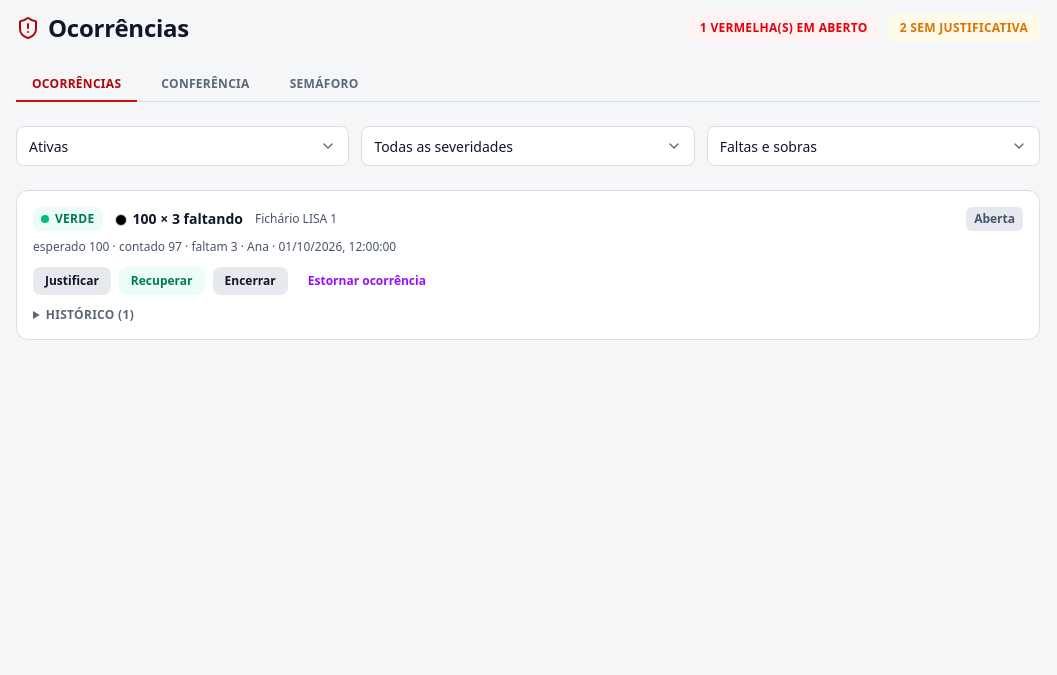
semáforo (admin) › erro de validação do servidor é exibido; faixa pode ser adicionada e removida
Click the tab "Semáforo" at x=324, y=85, box [274, 68, 375, 102]
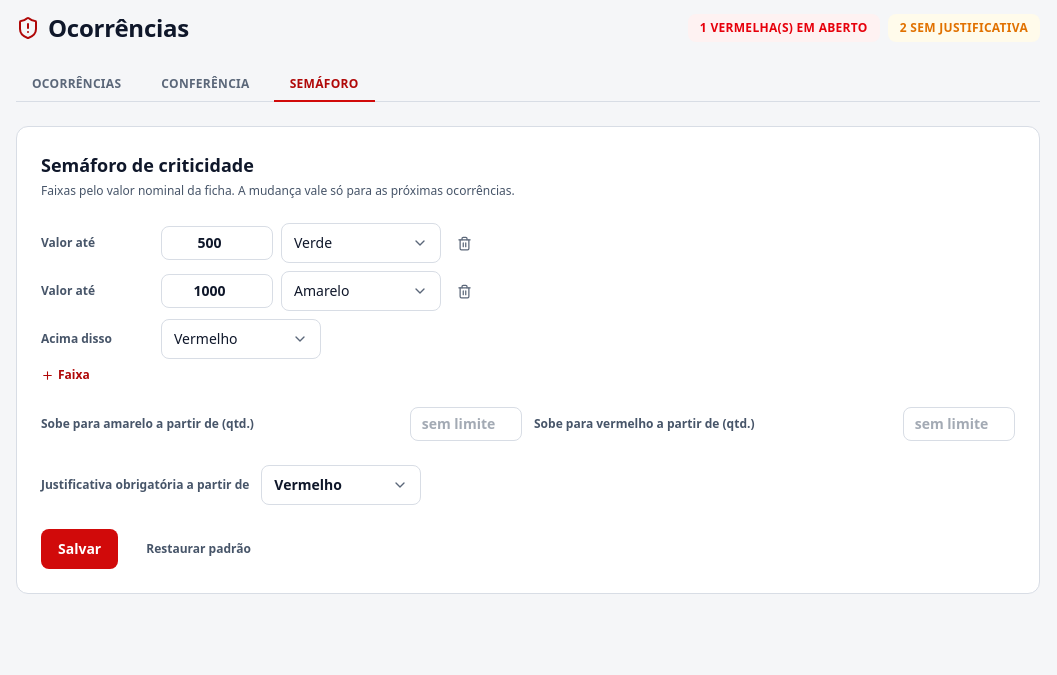
Click the button "Faixa" at x=65, y=375, box [41, 367, 90, 383]
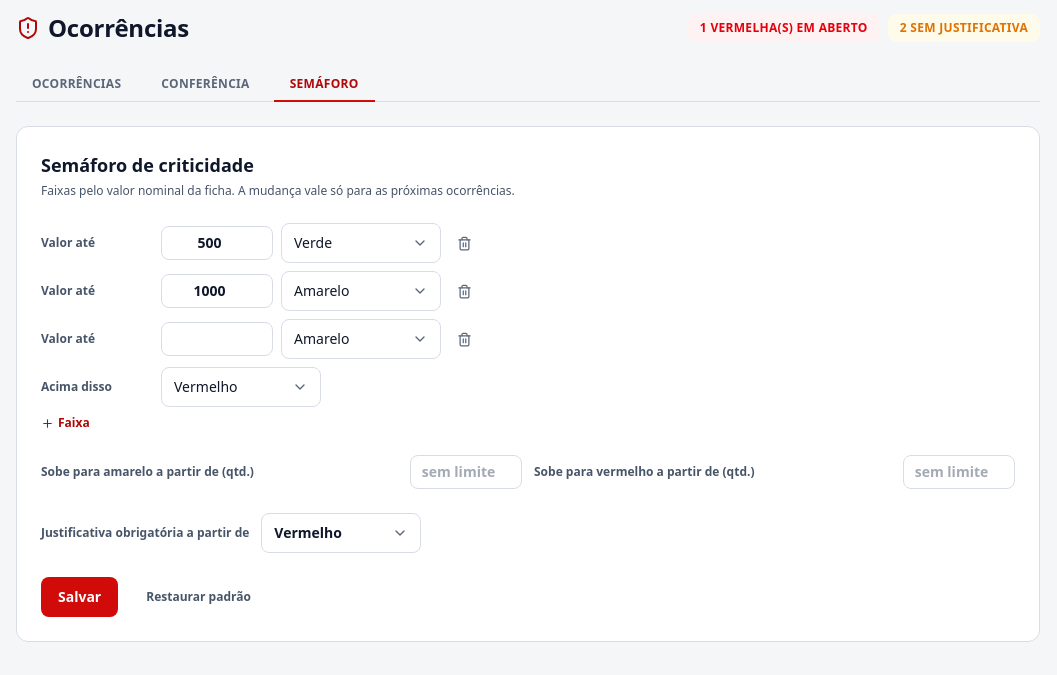
Click the 1st button named "Remover faixa" at x=464, y=243, box [449, 228, 480, 258]
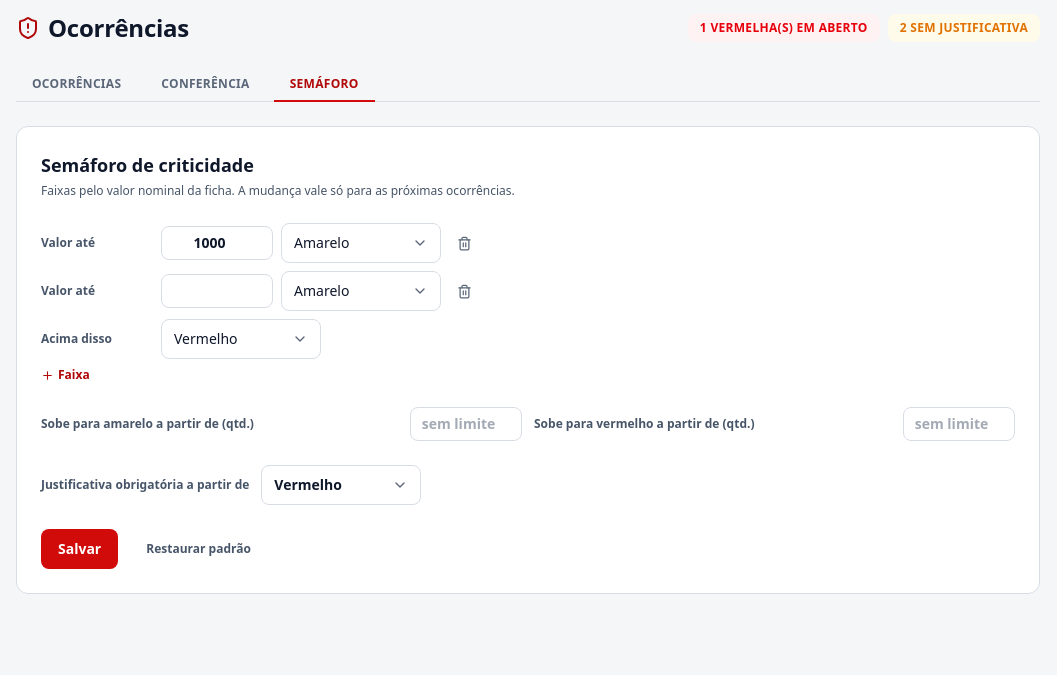
Click the button "Salvar" at x=80, y=549, box [41, 529, 118, 569]
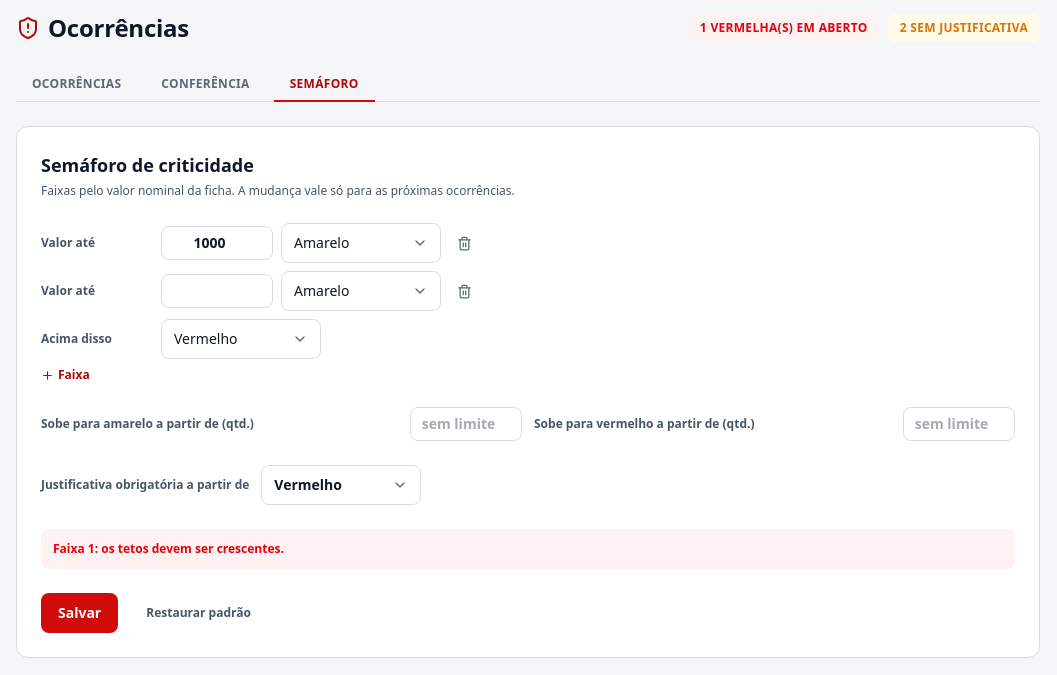
Now the message "Faixa 1: os tetos devem ser crescentes." is shown, box [41, 529, 1015, 569]
